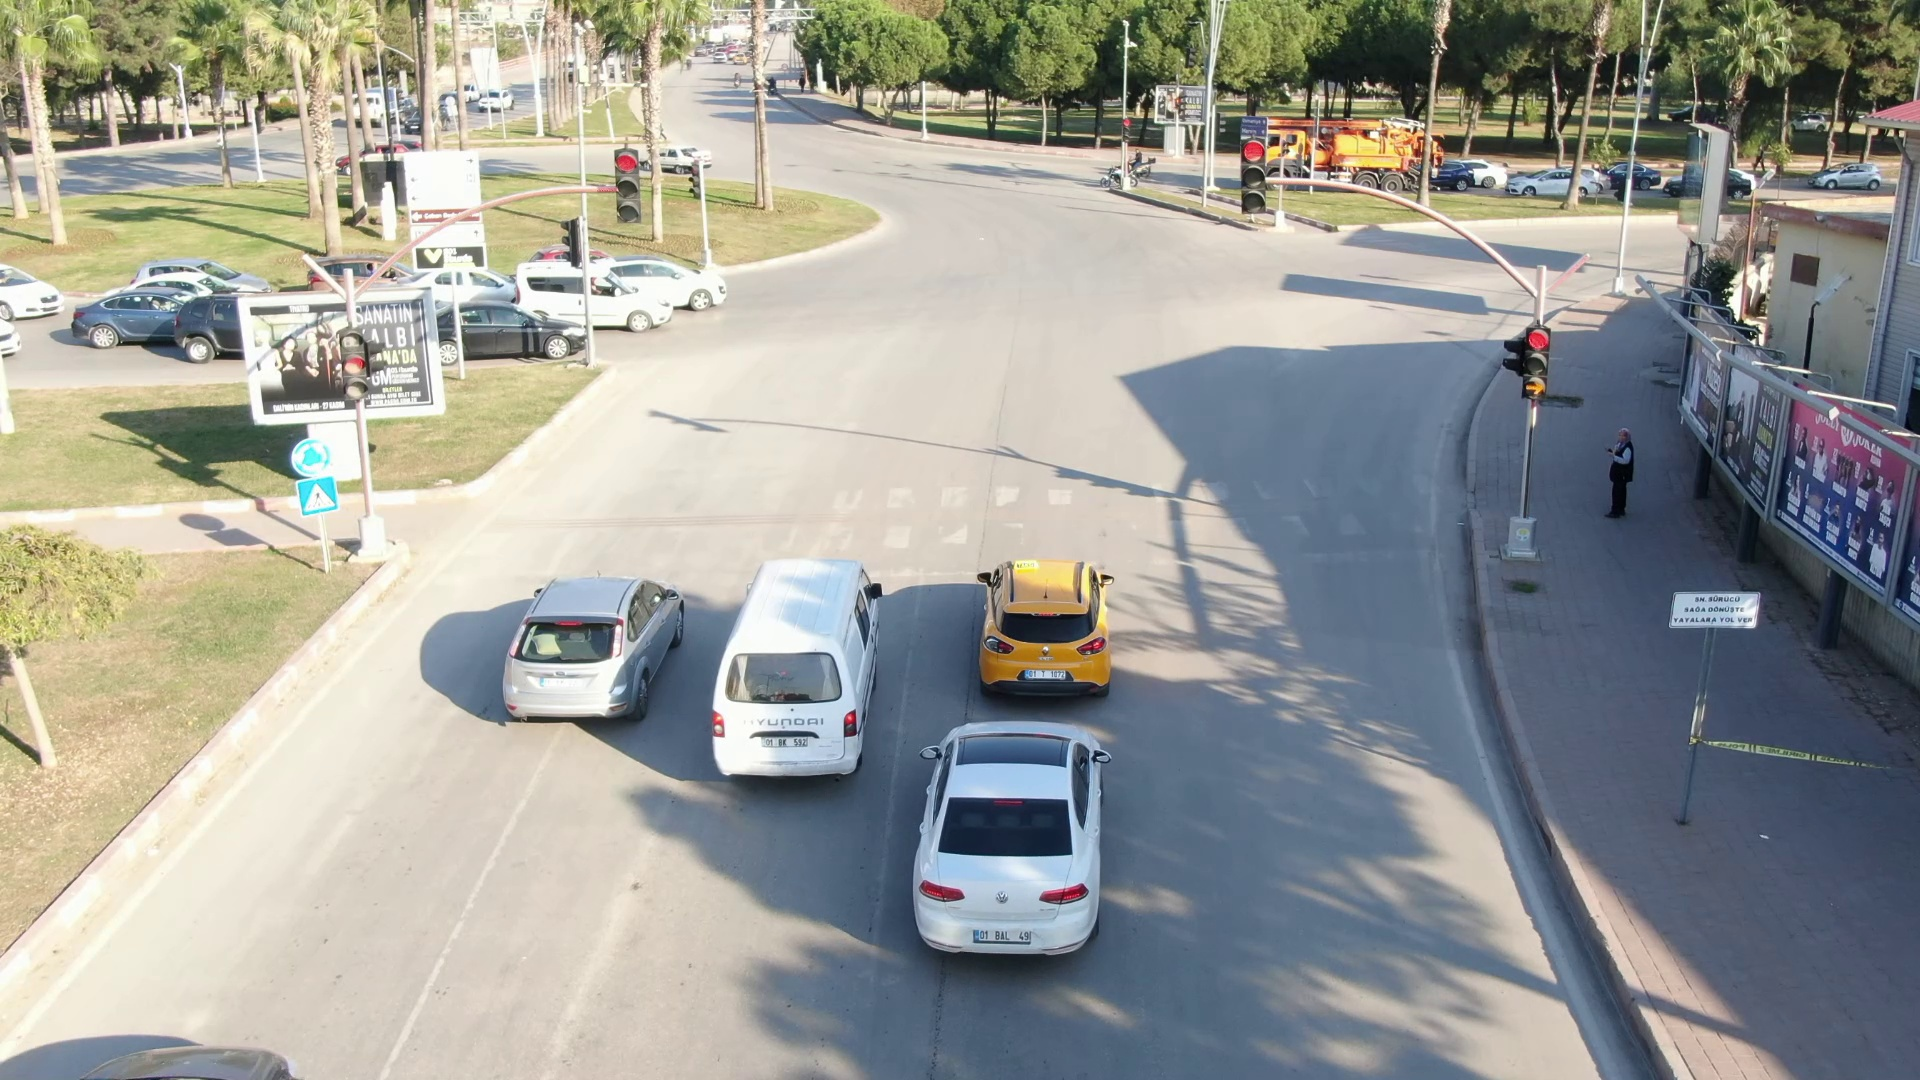car: (904, 717, 1121, 959), (704, 547, 884, 794), (474, 570, 692, 725), (974, 547, 1123, 706)
person: (1606, 417, 1649, 523)
